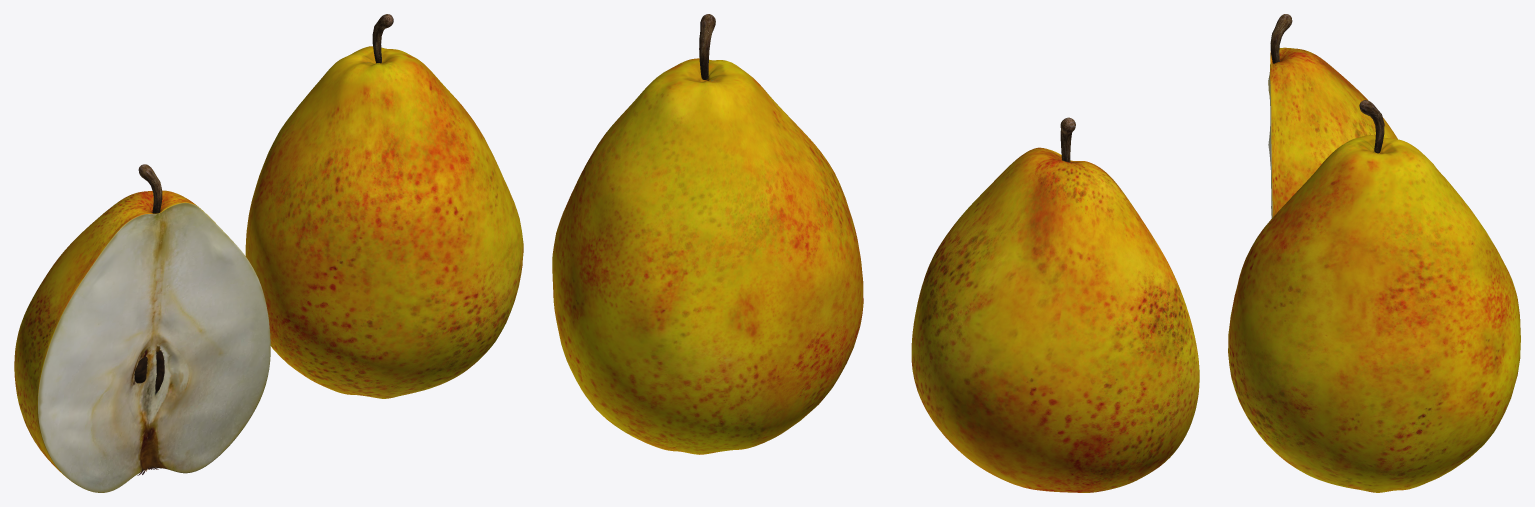
The model's file is pear.fbx.
3 renders of one model, left to right at view 1: azimuth 30°, elevation 25°; view 2: azimuth 150°, elevation 25°; view 3: azimuth 270°, elevation 25°, orthographic. The views are drawn at different scales.
Parts seen in each view (by area): view 1: pear, pear_cut; view 2: pear, pear_cut; view 3: pear, pear_cut.
Boxes of the visible parts, x1,y1,x2,y2 form: pear: [245, 14, 523, 398]; pear_cut: [14, 164, 270, 492]; pear: [552, 14, 863, 454]; pear_cut: [911, 117, 1199, 492]; pear: [1228, 100, 1520, 492]; pear_cut: [1268, 14, 1397, 218].
Bounding box in the file's own units: 12.67 × 8.7 × 6.17.
